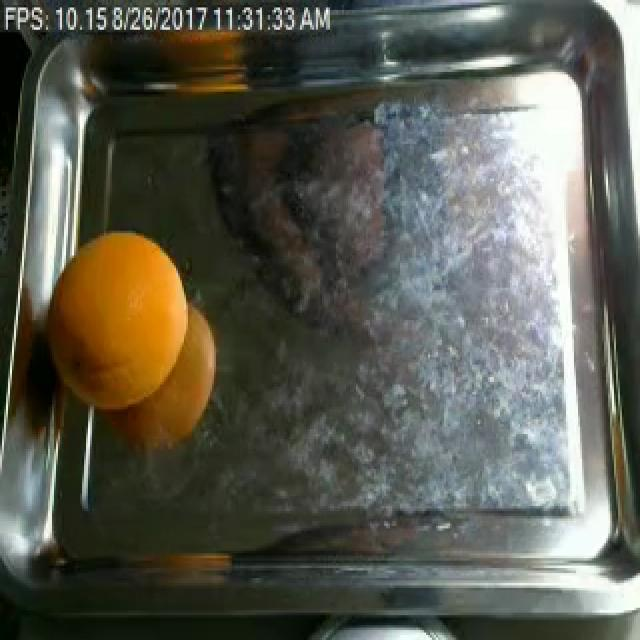Fruit: (30, 213, 204, 429)
